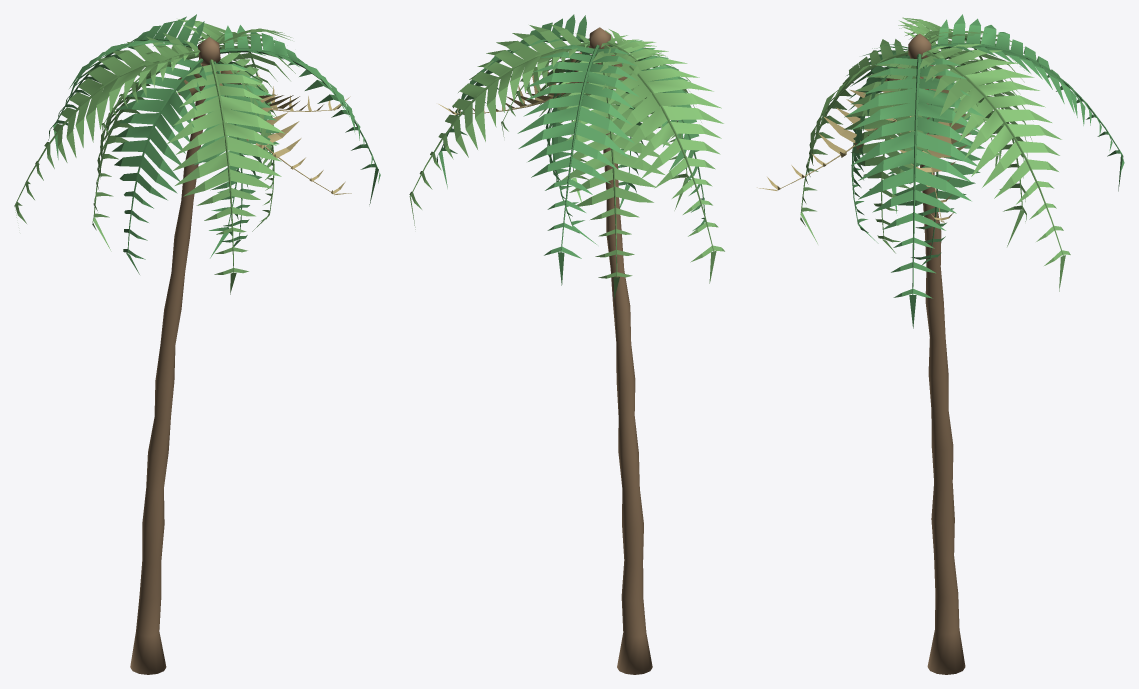
File: palm_tall.glb
3 views of the same model, side by side, from view 1: azimuth 30°, elevation 25°; view 2: azimuth 150°, elevation 25°; view 3: azimuth 270°, elevation 25° (orthographic). The views are drawn at different scales.
Parts seen in each view (by area): view 1: palm_tall; view 2: palm_tall; view 3: palm_tall.
Boxes of the visible parts, x1,y1,x2,y2 form: palm_tall: [14, 14, 380, 674]; palm_tall: [409, 14, 724, 674]; palm_tall: [757, 14, 1124, 674].
Size of the model in its own units: 7.52 by 13.95 by 7.11.
